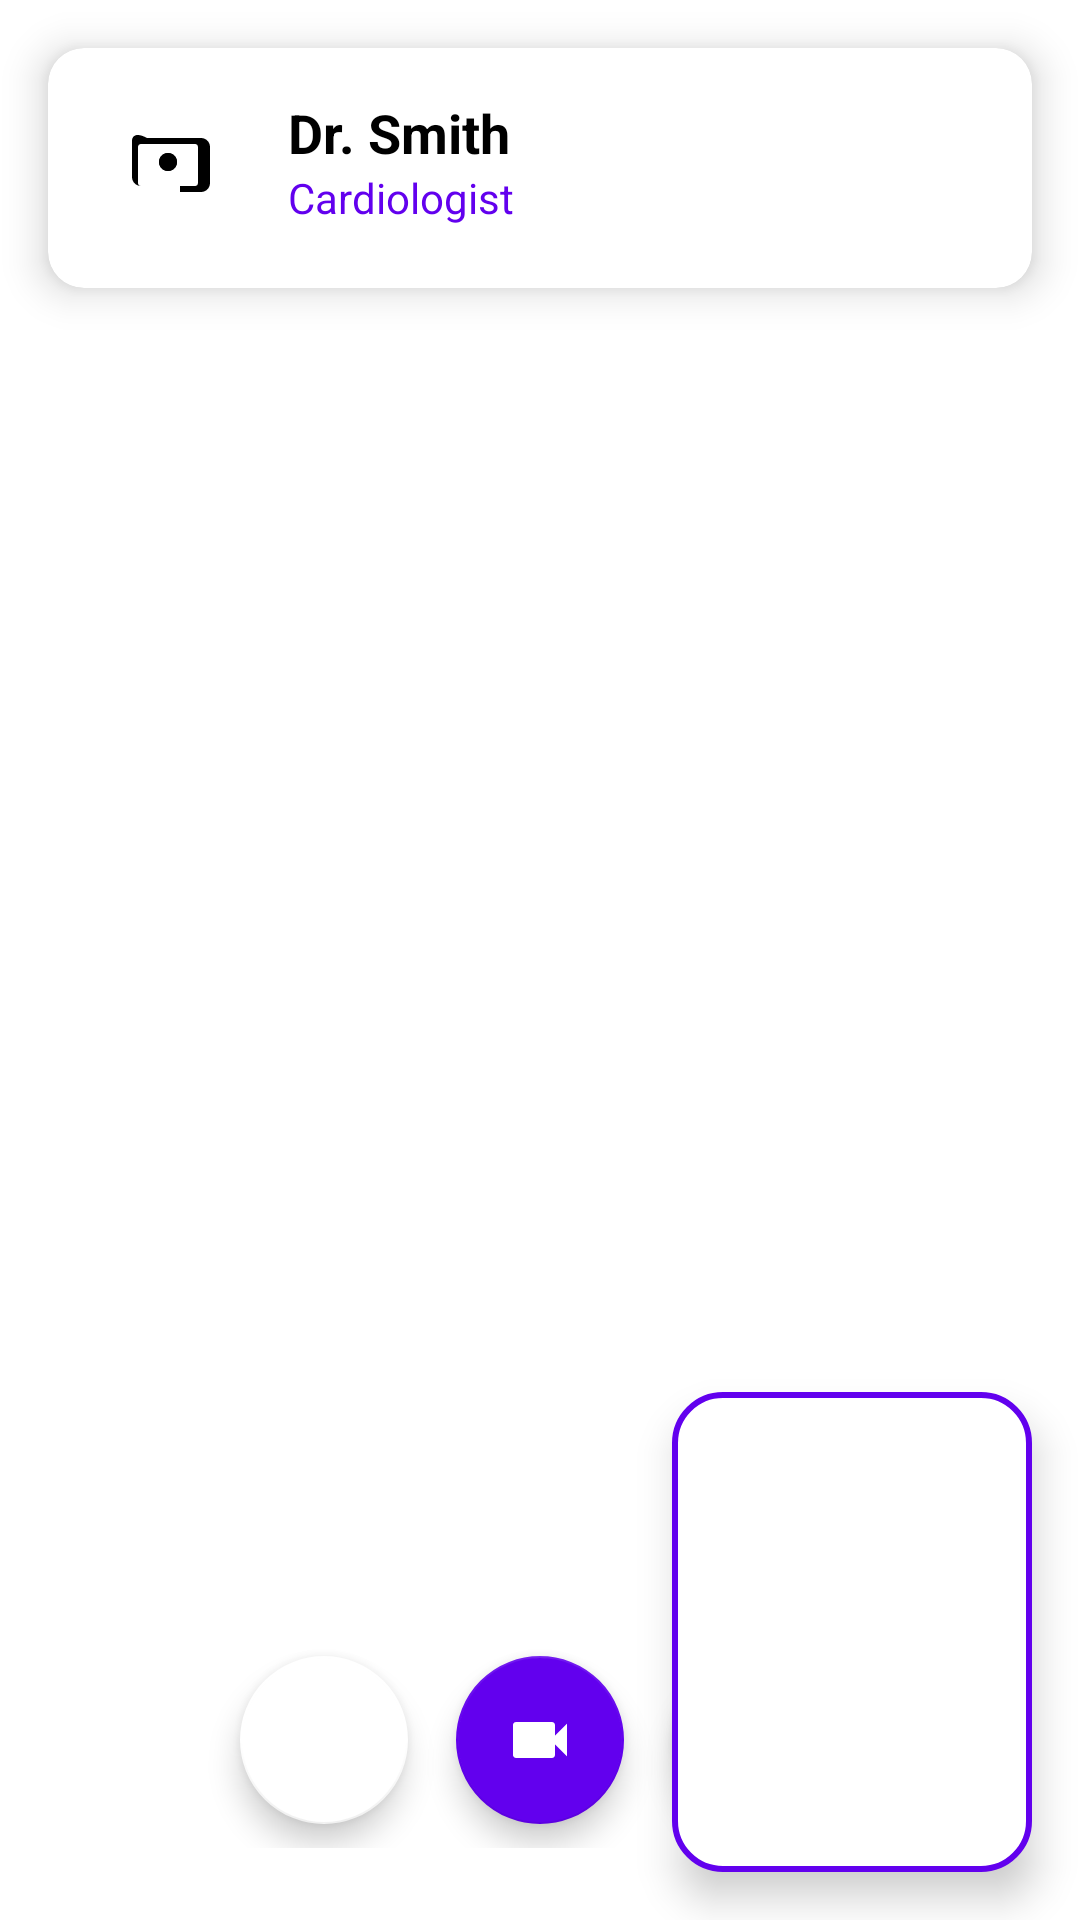

Where icons sit on this 1080 × 1920 app screen, as (x1, y1, x2, y2):
video call: (456, 1656, 624, 1824)
